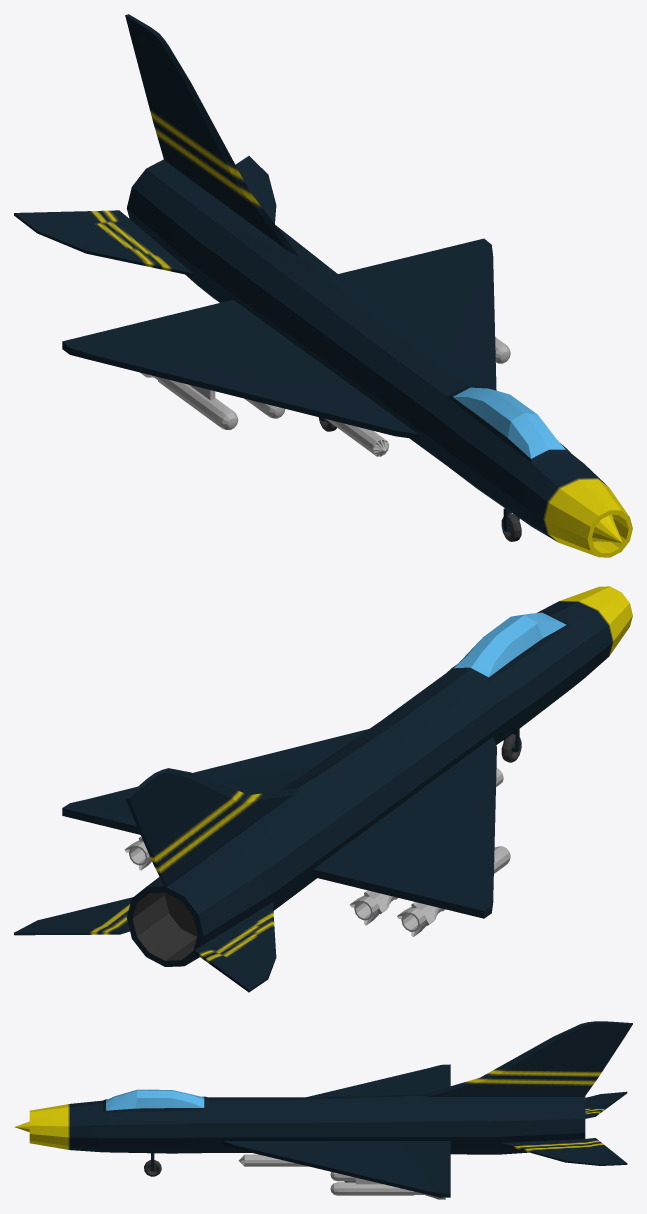
The model's file is FighterJet2.fbx.
3 views of the same model, one above another, from view 1: azimuth 30°, elevation 25°; view 2: azimuth 150°, elevation 25°; view 3: azimuth 270°, elevation 25° (orthographic). The views are drawn at different scales.
Visible parts, largest first — view 1: FighterJet2; view 2: FighterJet2; view 3: FighterJet2.
Boxes of the visible parts, bbox=[...] form: FighterJet2: bbox=[14, 14, 632, 557]; FighterJet2: bbox=[14, 586, 632, 992]; FighterJet2: bbox=[14, 1021, 632, 1199].
Bounding box in the file's own units: 427 × 239 × 869.
Materials: 1 (1 with a texture image).
